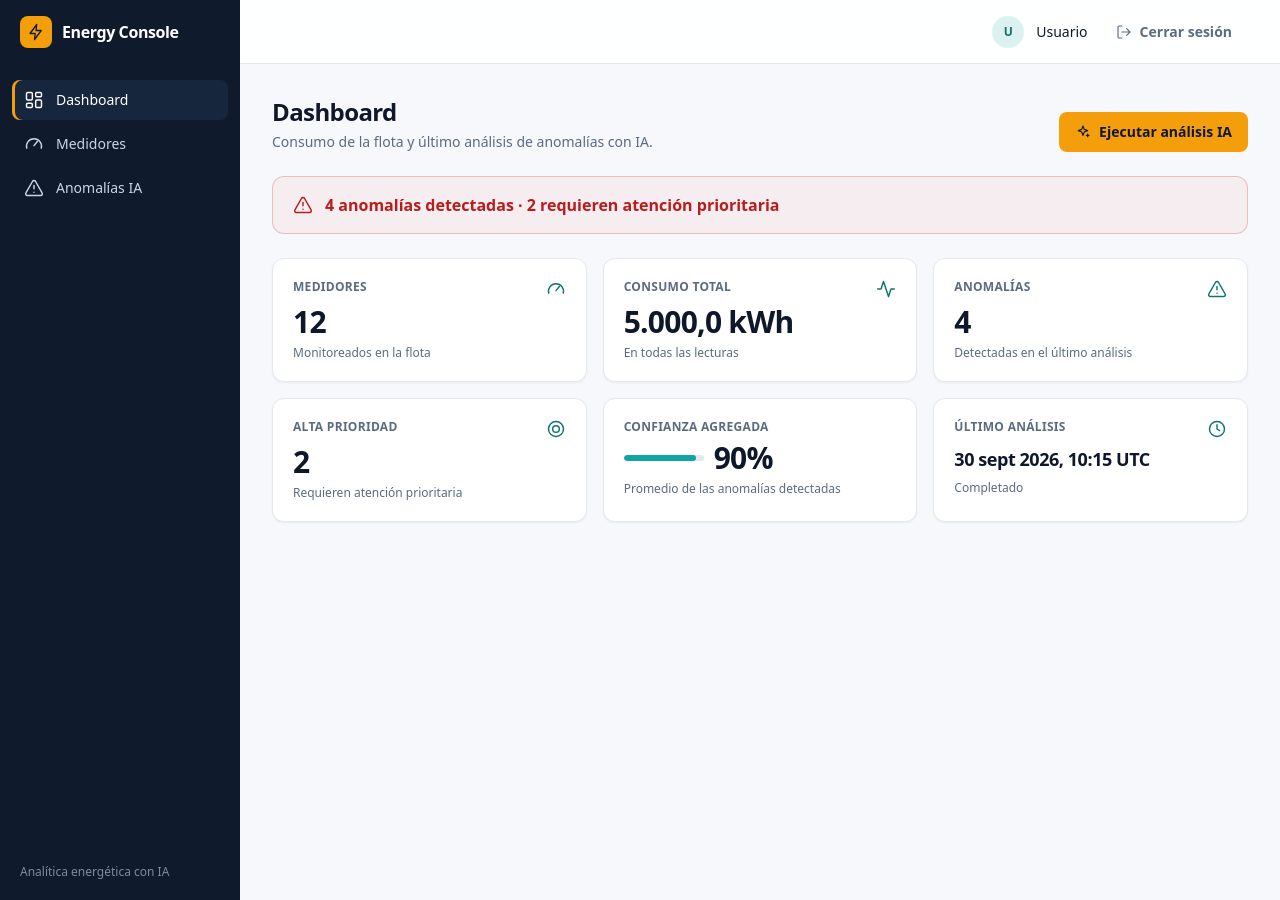
Test: meters routes › opens the meters list from the sidebar and marks it as current
Expected: the text "4 anomalías detectadas · 2 requieren atención prioritaria" is shown, [272, 176, 1248, 234]
Click the link "Medidores" at coordinates (75, 144), box [24, 134, 126, 154]
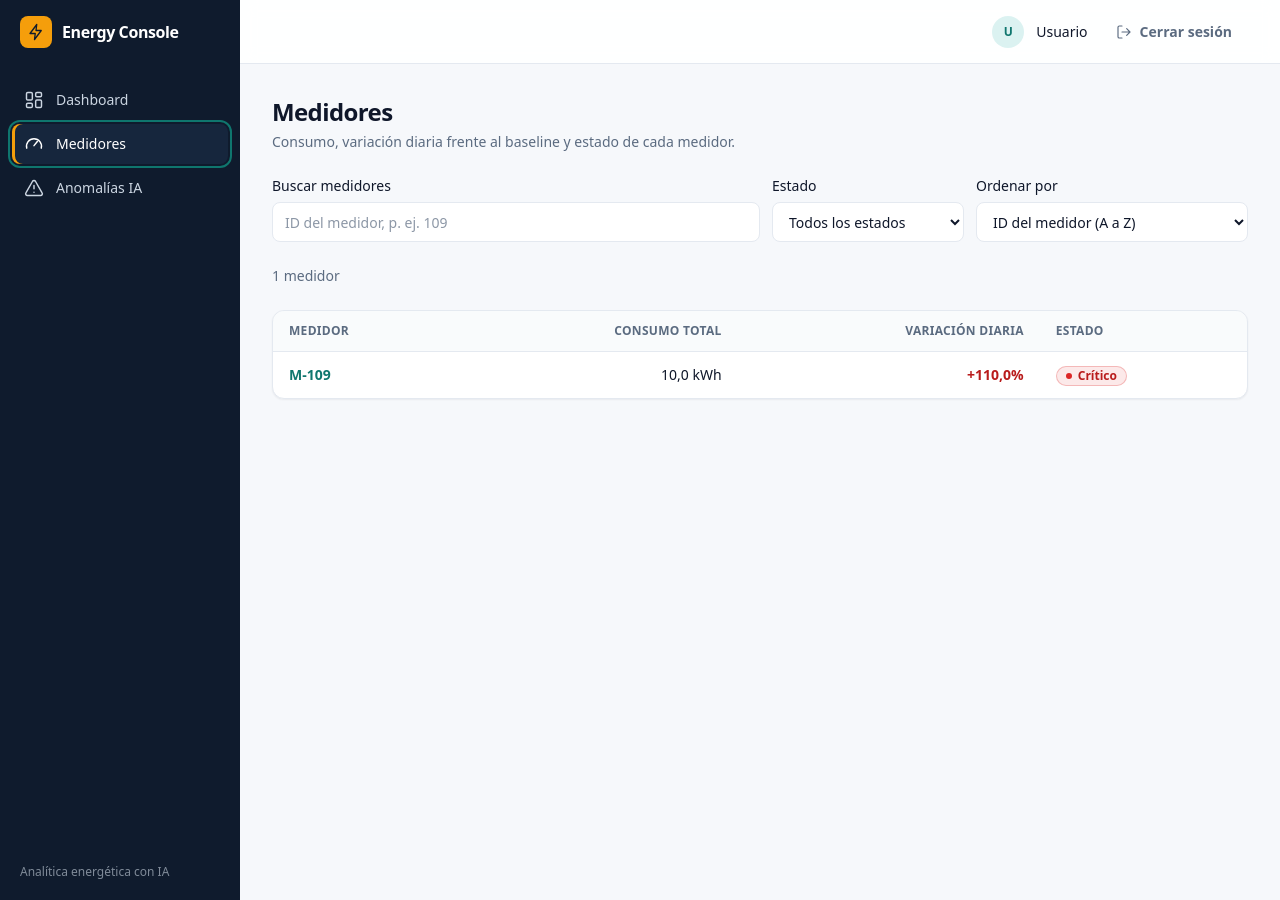
Result: the heading "Medidores" is shown at [272, 95, 392, 128]
